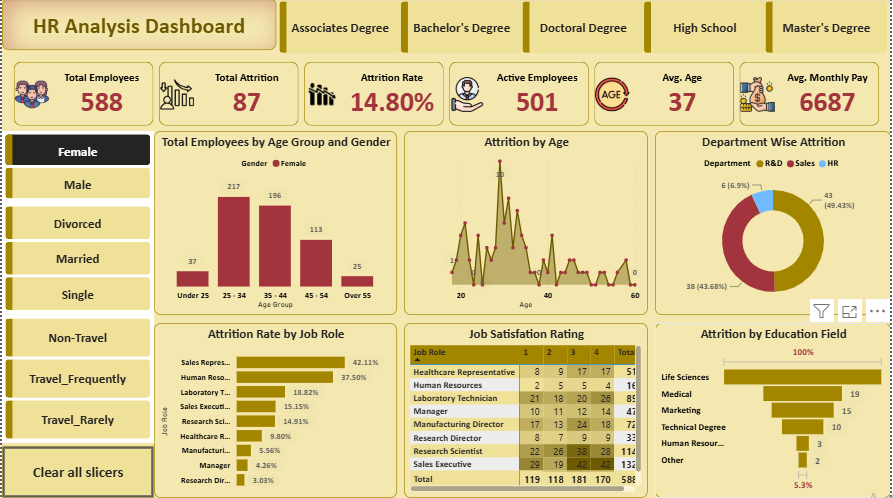

What the dashboard file says about the page in this screenshot:
{"tool":"powerbi","page":{"name":"Page 1","canvas":[1280,720],"ordinal":0},"visuals":[{"type":"cardVisual","fields":{"Data":["HR data.Total Employees","HR data.Total Attrition","HR data.Attrition Rate","HR data.Active Employees","Avg(HR data.Age)","Avg(HR data.Monthly Income)"]},"box":[0,74.9,1280.2,126.7],"z":0},{"type":"clusteredColumnChart","fields":{"Category":["HR data.Age Group"],"Y":["HR data.Total Employees"],"Series":["HR data.Gender"]},"box":[218.9,191.5,349.9,265],"z":1000},{"type":"areaChart","title":"Attrition by Age","fields":{"Category":["HR data.Age"],"Y":["HR data.Total Attrition"]},"box":[578.9,191.5,351.4,265],"z":2000},{"type":"donutChart","title":"Department Wise Attrition","fields":{"Category":["HR data.Department"],"Y":["HR data.Total Attrition"]},"box":[940.3,191.5,339.8,265],"z":3000},{"type":"clusteredBarChart","fields":{"Category":["HR data.Job Role"],"Y":["HR data.Attrition Rate"]},"box":[218.9,468,349.9,252],"z":4000},{"type":"pivotTable","title":"Job Satisfation Rating","fields":{"Rows":["HR data.Job Role"],"Columns":["HR data.Job Satisfaction"],"Values":["HR data.Total Employees"]},"box":[578.9,468,351.4,252],"z":5000},{"type":"funnel","title":"Attrition by Education Field","fields":{"Category":["HR data.Education Field"],"Y":["HR data.Total Attrition"]},"box":[940.3,468,339.8,252],"z":6000},{"type":"advancedSlicerVisual","fields":{"Values":["HR data.Gender"]},"box":[0,191.5,218.9,103.7],"z":7000},{"type":"advancedSlicerVisual","fields":{"Values":["HR data.Marital Status"]},"box":[0,295.2,218.9,161.3],"z":8000},{"type":"advancedSlicerVisual","fields":{"Values":["HR data.Business Travel"]},"box":[0,456.5,218.9,184.3],"z":10000},{"type":"advancedSlicerVisual","fields":{"Values":["HR data.Education"]},"box":[394.6,0,885.6,85],"z":10001},{"type":"actionButton","box":[0,645.1,218.9,74.9],"z":10002},{"type":"textbox","box":[0,0,394.6,74.9],"z":10003}]}

Visuals, with their boxes in screenshot pixels (x1, y1, x2, y2), scaled from the page's 1280x720 canvas onto the 893x498 screenshot:
cardVisual - HR data.Total Employees x HR data.Total Attrition: x1=0, y1=52, x2=892, y2=139
clusteredColumnChart - HR data.Age Group x HR data.Total Employees: x1=153, y1=132, x2=397, y2=316
"Attrition by Age" areaChart: x1=404, y1=132, x2=649, y2=316
"Department Wise Attrition" donutChart: x1=656, y1=132, x2=892, y2=316
clusteredBarChart - HR data.Job Role x HR data.Attrition Rate: x1=153, y1=324, x2=397, y2=497
"Job Satisfation Rating" pivotTable: x1=404, y1=324, x2=649, y2=497
"Attrition by Education Field" funnel: x1=656, y1=324, x2=892, y2=497
advancedSlicerVisual - HR data.Gender: x1=0, y1=132, x2=153, y2=204
advancedSlicerVisual - HR data.Marital Status: x1=0, y1=204, x2=153, y2=316
advancedSlicerVisual - HR data.Business Travel: x1=0, y1=316, x2=153, y2=443
advancedSlicerVisual - HR data.Education: x1=275, y1=0, x2=892, y2=59
actionButton: x1=0, y1=446, x2=153, y2=497
textbox: x1=0, y1=0, x2=275, y2=52
